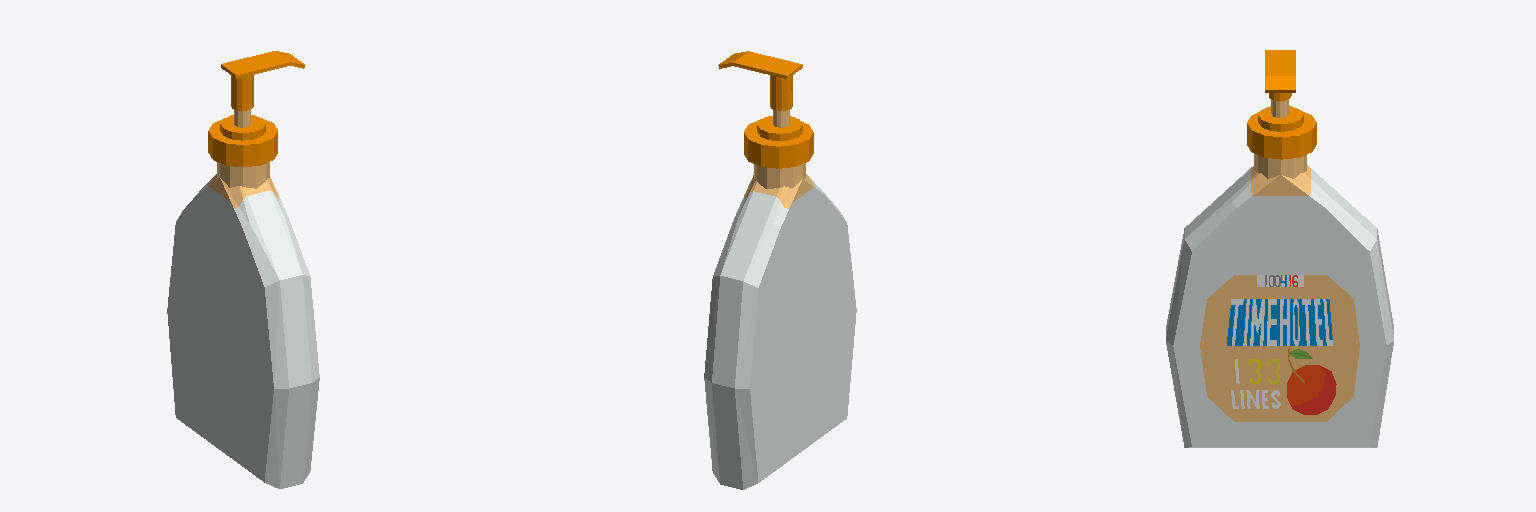
3 views of the same model, side by side, from view 1: azimuth 30°, elevation 25°; view 2: azimuth 150°, elevation 25°; view 3: azimuth 270°, elevation 25° (orthographic).
Parts seen in each view (by area): view 1: group[number redacted]; view 2: group[number redacted]; view 3: group[number redacted].
Boxes of the visible parts, <box> form: group[number redacted]: <box>167,51,319,488</box>; group[number redacted]: <box>704,51,856,489</box>; group[number redacted]: <box>1166,50,1393,447</box>.
Bounding box in the file's own units: 0.6402 × 2.81 × 1.51.